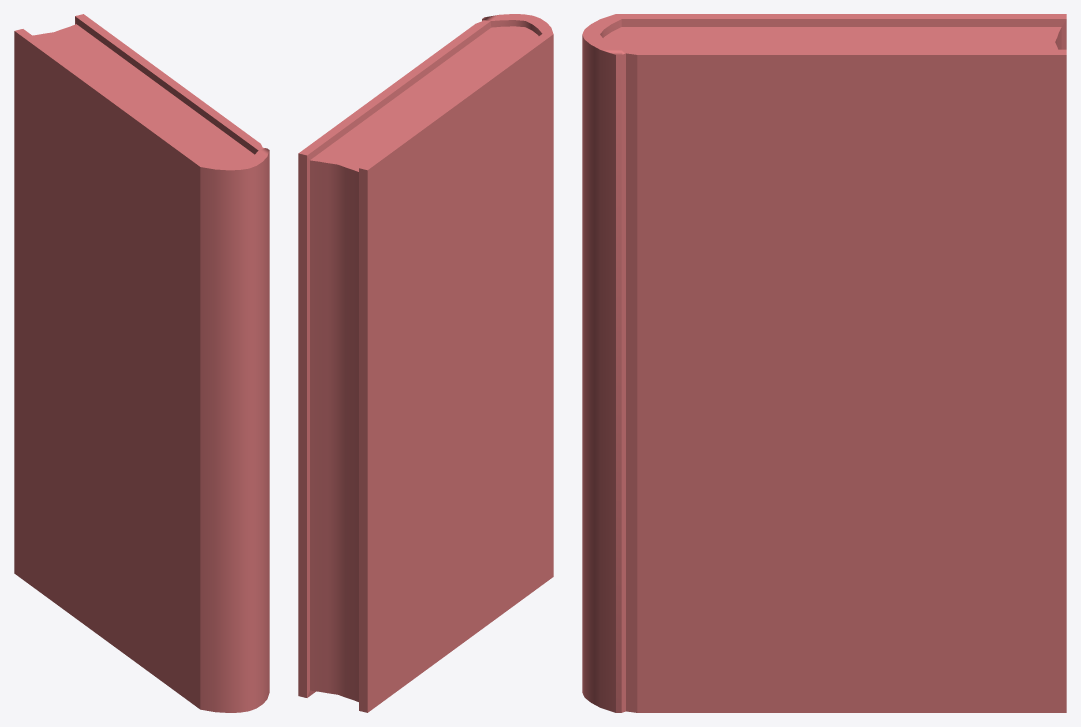
The model's file is book.fbx.
3 renders of one model, left to right at view 1: azimuth 30°, elevation 25°; view 2: azimuth 150°, elevation 25°; view 3: azimuth 270°, elevation 25°, orthographic. The views are drawn at different scales.
Parts seen in each view (by area): view 1: Book4.001; view 2: Book4.001; view 3: Book4.001.
Part boxes in pixels (x1,y1,x2,y2): Book4.001: (14, 14, 269, 712); Book4.001: (298, 14, 553, 712); Book4.001: (582, 14, 1066, 712).
Bounding box in the file's own units: 75 × 562 × 375.
